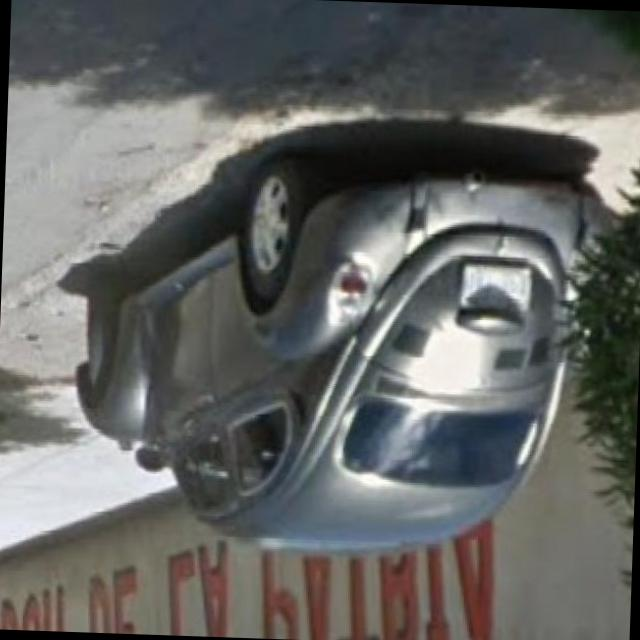car: (62, 157, 608, 558)
